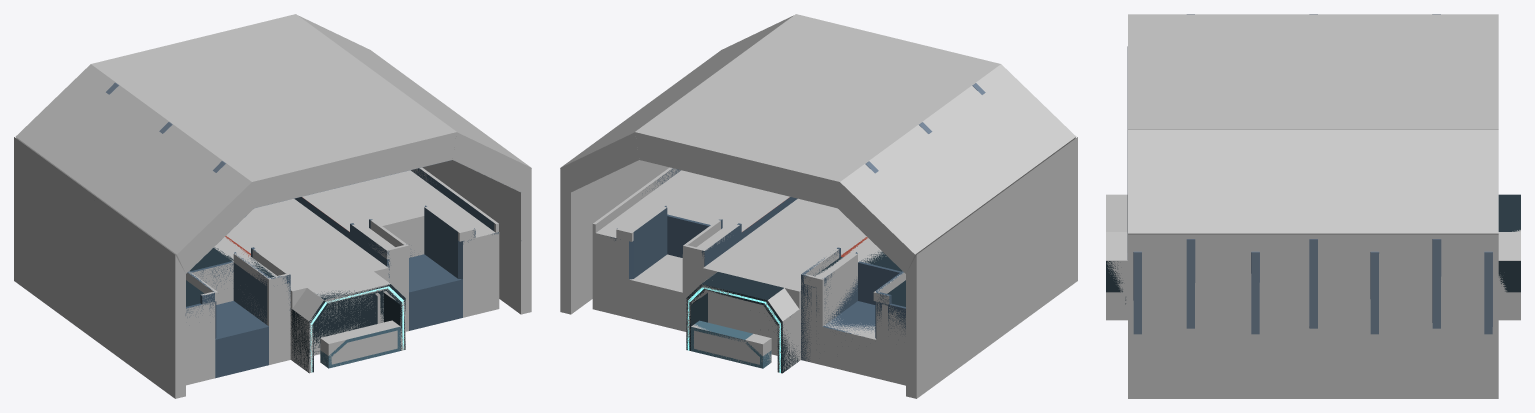
File: SM_Train_Station.fbx
The picture shows the model from 3 angles, left to right: view 1: azimuth 30°, elevation 25°; view 2: azimuth 150°, elevation 25°; view 3: azimuth 270°, elevation 25°; orthographic projection. The views are drawn at different scales.
Visible parts, largest first — view 1: SM_Train_Station_ConvexHulls, SM_Train_Station; view 2: SM_Train_Station_ConvexHulls, SM_Train_Station; view 3: SM_Train_Station_ConvexHulls, SM_Train_Station.
Boxes of the visible parts, <box> form: SM_Train_Station_ConvexHulls: <box>14,14,531,398</box>; SM_Train_Station: <box>106,82,521,378</box>; SM_Train_Station_ConvexHulls: <box>560,14,1077,398</box>; SM_Train_Station: <box>610,83,985,373</box>; SM_Train_Station_ConvexHulls: <box>1106,14,1520,398</box>; SM_Train_Station: <box>1106,14,1520,334</box>.
Bounding box in the file's own units: 2913 × 2553 × 1547.
